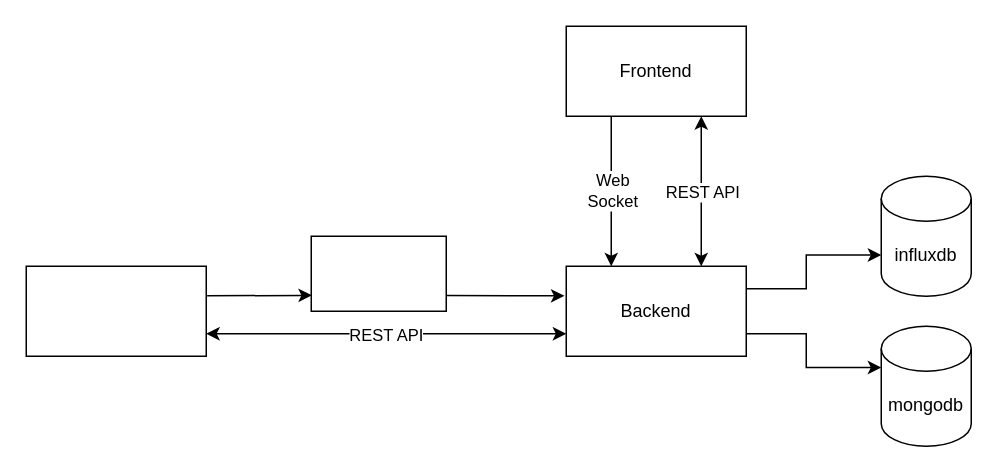
This 998x473 diagram has some shape labels left out. The shapes that lost their labels are listed below. From the top down, each one's centre as x and y in pixels, then its label:
At [378,273]: "MQTT Broker".
At [115,310]: "ESP32".
